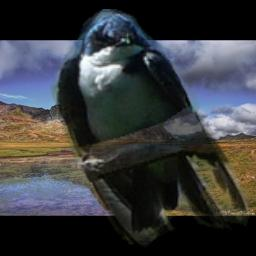Swallow: (50, 9, 255, 255)
